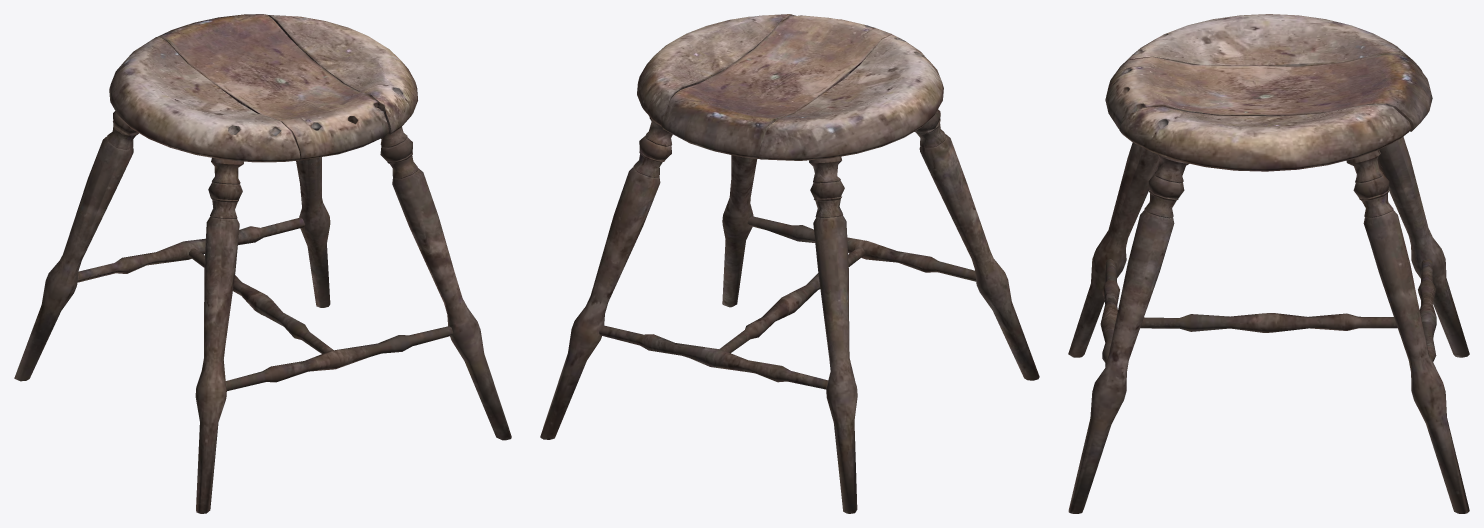
File: wooden_stool_01.glb
3 renders of one model, left to right at view 1: azimuth 30°, elevation 25°; view 2: azimuth 150°, elevation 25°; view 3: azimuth 270°, elevation 25°, orthographic. The views are drawn at different scales.
Parts seen in each view (by area): view 1: wooden_stool_01; view 2: wooden_stool_01; view 3: wooden_stool_01.
Part boxes in pixels (left/top/right/bottom): wooden_stool_01: left=14, top=14, right=511, bottom=513; wooden_stool_01: left=540, top=14, right=1039, bottom=513; wooden_stool_01: left=1068, top=14, right=1469, bottom=513.
Bounding box in the file's own units: 0.4242 × 0.4365 × 0.4417.
Materials: 1 (1 with a texture image).
